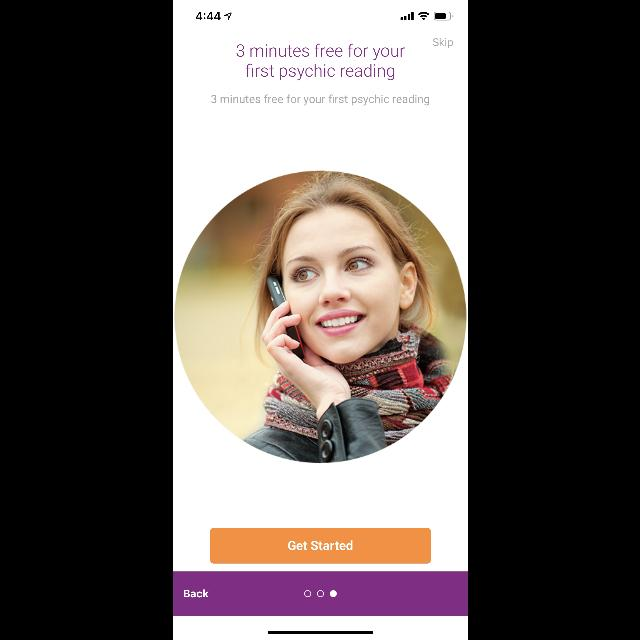image: (174, 170, 466, 464)
pageindicator: (304, 590, 336, 596)
text: (236, 44, 404, 80), (211, 94, 429, 106), (182, 589, 208, 597), (432, 38, 452, 48)
textbutton: (210, 528, 430, 564)
uppertaskbar: (195, 12, 452, 21)
